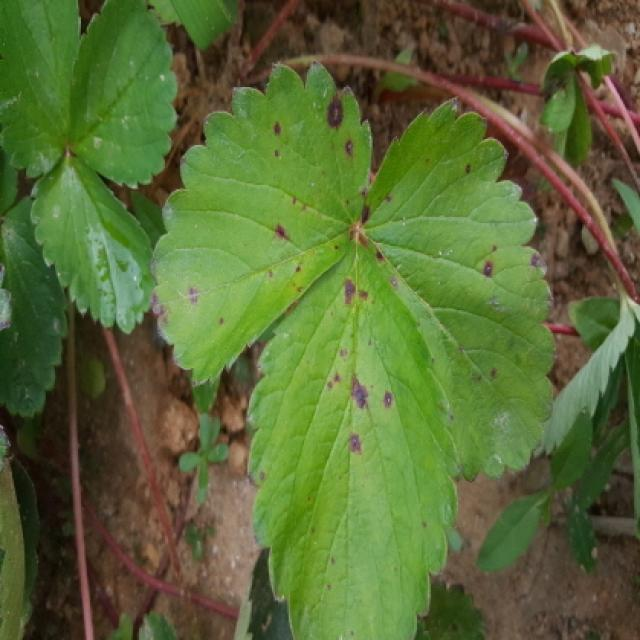Leaf Spot: (244, 231, 460, 638), (360, 97, 560, 483), (148, 57, 373, 387)
